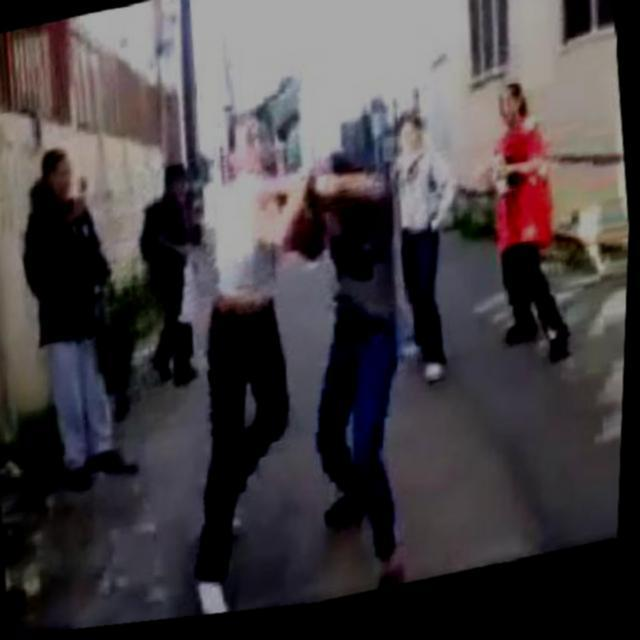fight: (158, 88, 442, 623)
